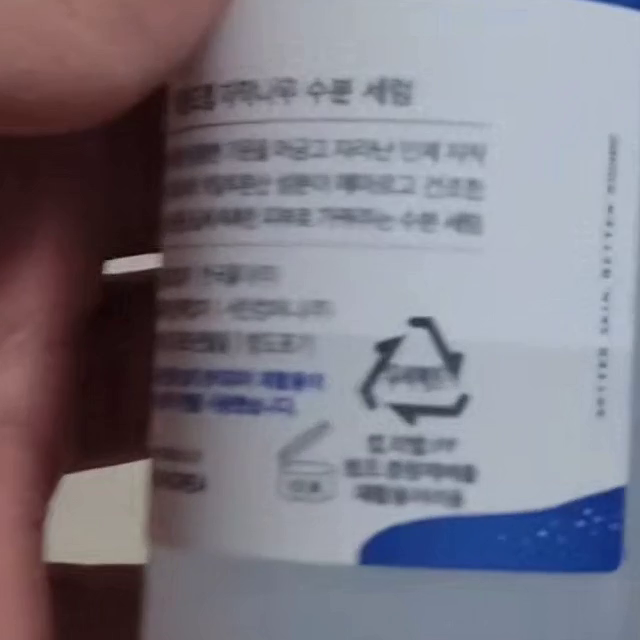ColorlessPet: (359, 317, 472, 427)
